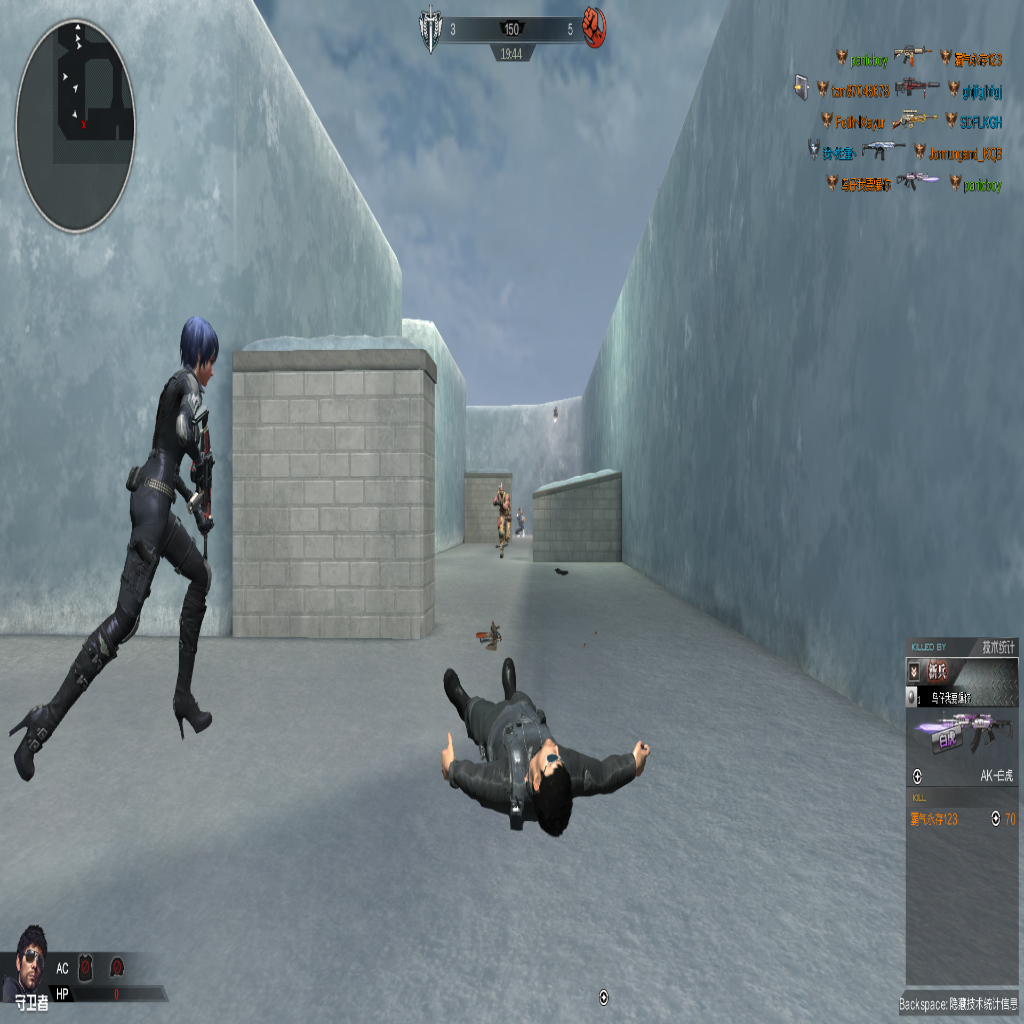ct: (4, 311, 234, 787)
tt: (494, 482, 510, 556), (517, 507, 525, 537)
